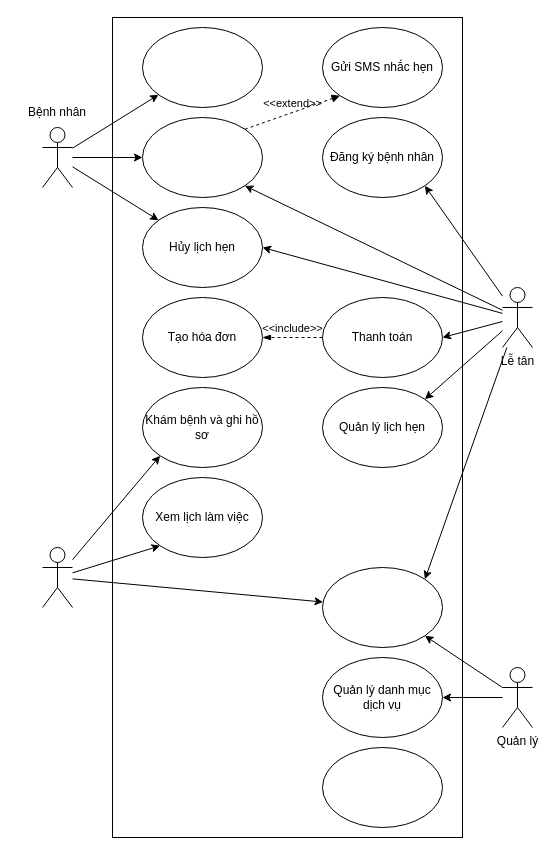
The diagram is 555 pixels wide and 855 high, and some of its shapes have lost their labels. Here are the shapes that lost their labels. From the top down, the centre of each, then its label:
At pixel 202 67: "Xem hồ sơ cá nhân".
At pixel 202 157: "Đặt lịch hẹn".
At pixel 57 577: "Nha sĩ".
At pixel 382 607: "Tra cứu hồ sơ bệnh nhân".
At pixel 382 787: "xem báo cáo doanh thu".
